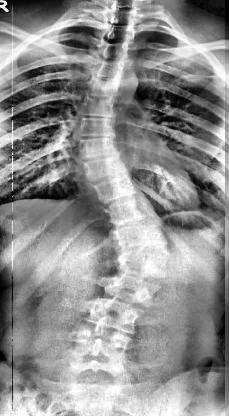Vertebrae: (57, 328, 134, 360), (106, 224, 172, 260), (75, 303, 149, 335), (101, 275, 170, 308), (110, 254, 176, 284), (102, 199, 160, 227), (90, 178, 142, 204), (81, 158, 132, 180), (72, 116, 122, 138), (74, 140, 120, 162), (80, 74, 126, 96), (76, 96, 120, 118), (87, 38, 131, 60), (87, 56, 126, 76), (98, 24, 134, 42)
